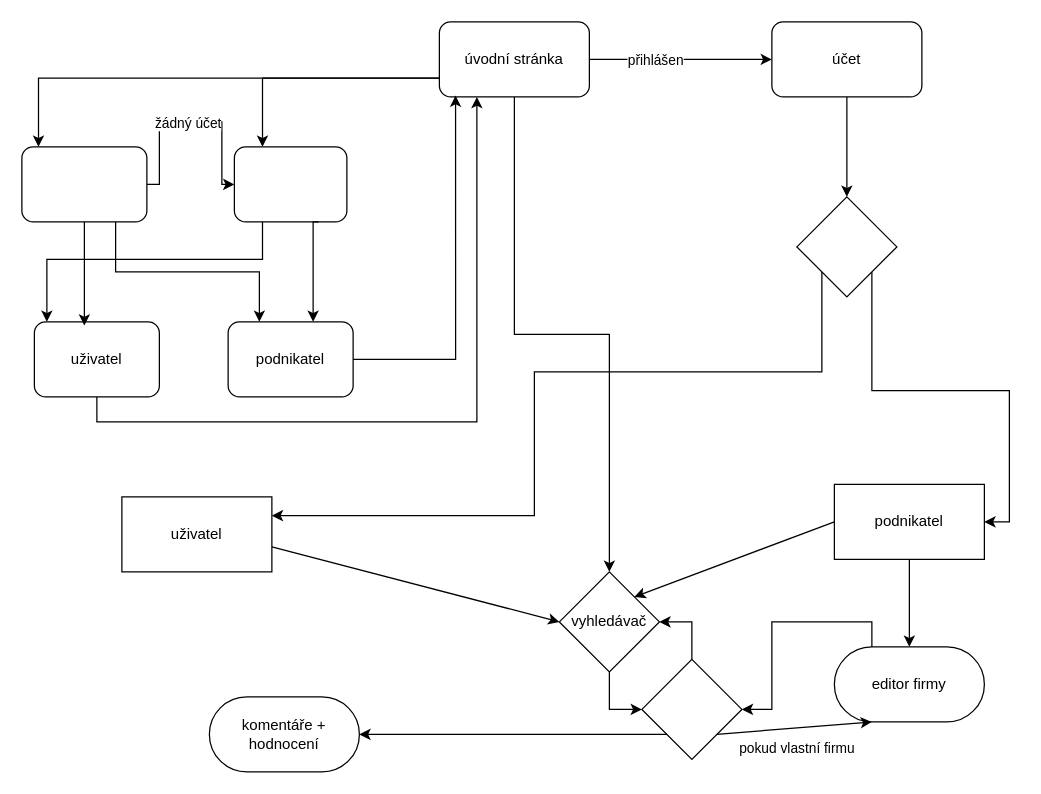
Some shapes in this 1041 by 794 pixel diagram are drawn without their labels. Each missing label, with the centre of its shape:
"přihlásit" belongs at pixel 84 184.
"typ účtu" belongs at pixel 846 246.
"vytvořit účet" belongs at pixel 290 184.
"zobrazit firmu" belongs at pixel 691 708.
